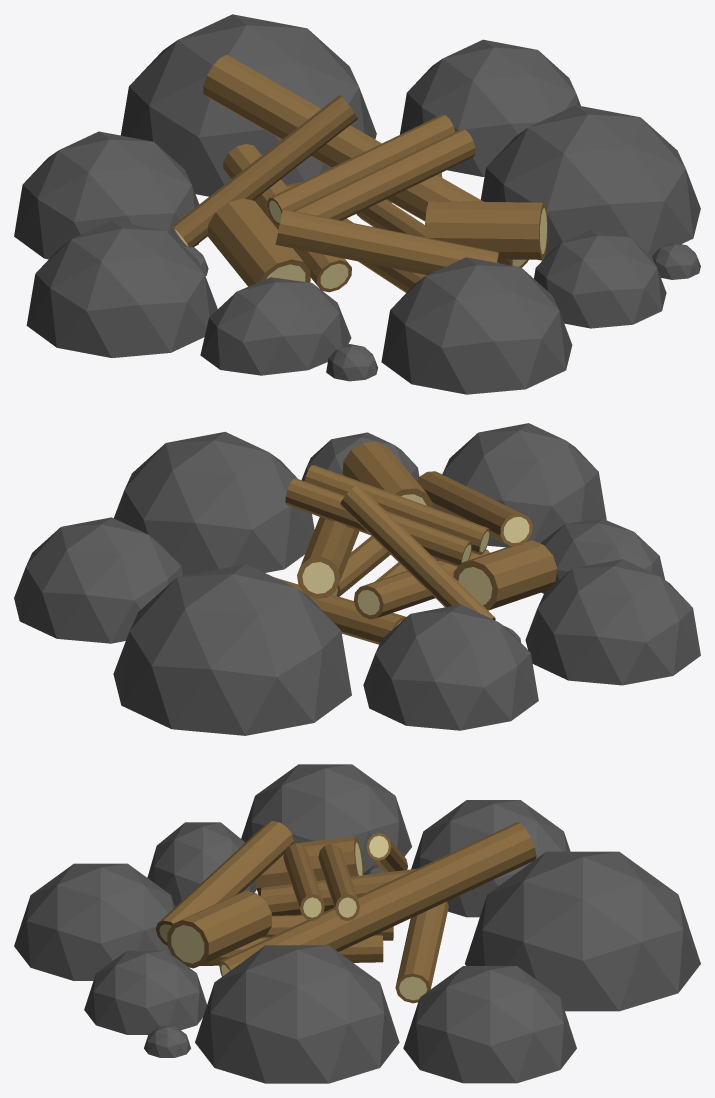
The model's file is Campfire_LowPoly.fbx.
3 renders of one model, top to bottom at view 1: azimuth 30°, elevation 25°; view 2: azimuth 150°, elevation 25°; view 3: azimuth 270°, elevation 25°, orthographic. The views are drawn at different scales.
Visible parts, largest first — view 1: Icosphere.008, Icosphere.004, Icosphere.013, Icosphere.012, Icosphere.007, Icosphere.005, Icosphere.016, Icosphere.009, Cylinder, Cylinder.007, Cylinder.006, Cylinder.008 (+8 smaller); view 2: Icosphere.004, Icosphere.008, Icosphere.007, Icosphere.012, Icosphere.005, Icosphere.013, Cylinder.005, Cylinder.008, Icosphere.016, Cylinder.007, Cylinder.009, Cylinder.010 (+6 smaller); view 3: Icosphere.004, Icosphere.008, Icosphere.005, Icosphere.013, Cylinder, Icosphere.012, Icosphere.009, Icosphere.007, Cylinder.006, Icosphere.016, Cylinder.007, Cylinder.001 (+8 smaller).
Boxes of the visible parts, x1,y1,x2,y2 form: Icosphere.008: (480, 105, 700, 260); Icosphere.004: (120, 14, 376, 196); Icosphere.013: (381, 257, 572, 394); Icosphere.012: (26, 220, 217, 357); Icosphere.007: (14, 131, 199, 259); Icosphere.005: (400, 39, 580, 176); Icosphere.016: (200, 277, 351, 375); Icosphere.009: (534, 230, 666, 328); Cylinder: (203, 55, 528, 267); Cylinder.007: (275, 209, 498, 275); Cylinder.006: (425, 201, 547, 259); Cylinder.008: (172, 95, 357, 247); Icosphere.004: (113, 564, 351, 735); Icosphere.008: (114, 431, 314, 575); Icosphere.007: (363, 604, 538, 730); Icosphere.012: (525, 559, 700, 685); Icosphere.005: (14, 517, 182, 643); Icosphere.013: (442, 423, 606, 547); Cylinder.005: (453, 540, 557, 610); Cylinder.008: (340, 485, 495, 619); Icosphere.016: (541, 518, 664, 593); Cylinder.007: (417, 471, 532, 546); Cylinder.009: (285, 478, 472, 566); Cylinder.010: (304, 465, 490, 554); Icosphere.004: (465, 851, 700, 1011); Icosphere.008: (195, 945, 399, 1083); Icosphere.005: (403, 966, 576, 1083); Icosphere.013: (14, 863, 174, 980); Cylinder: (219, 822, 536, 976); Icosphere.012: (241, 764, 411, 872); Icosphere.009: (84, 950, 206, 1034); Icosphere.007: (411, 800, 570, 917); Cylinder.006: (167, 891, 271, 968); Icosphere.016: (147, 822, 256, 906); Cylinder.007: (155, 821, 293, 945); Cylinder.001: (395, 901, 448, 1003).
Bounding box in the file's own units: 122 × 25.8 × 131.
